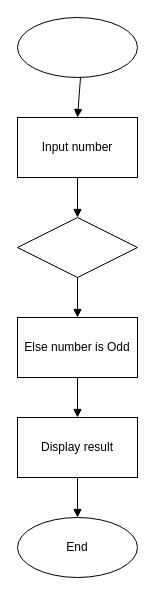
Some shapes in this 155 by 595 pixel diagram are drawn without their labels. The shapes that lost their labels are listed below. From the top down, each one's box as (x1, y1, x2, y2) in pixels, then its label:
(16, 16, 138, 78): Start
(16, 216, 138, 278): If number % 2 == 0 then number is Even
